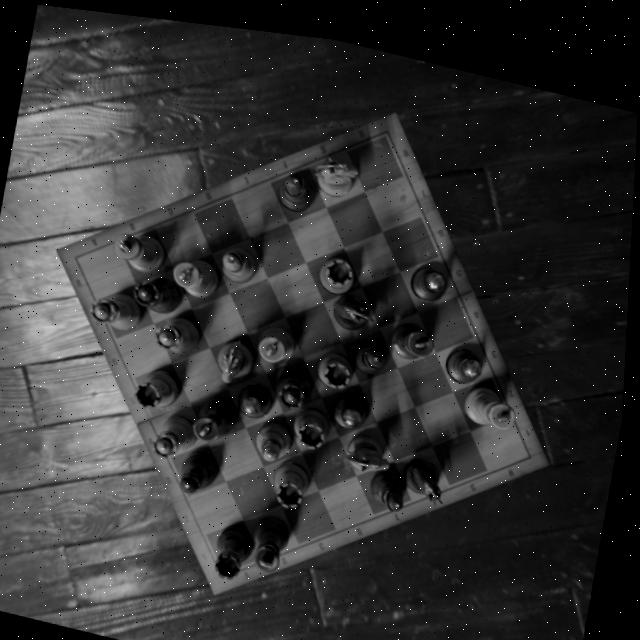chessboard: (79, 126, 531, 562)
